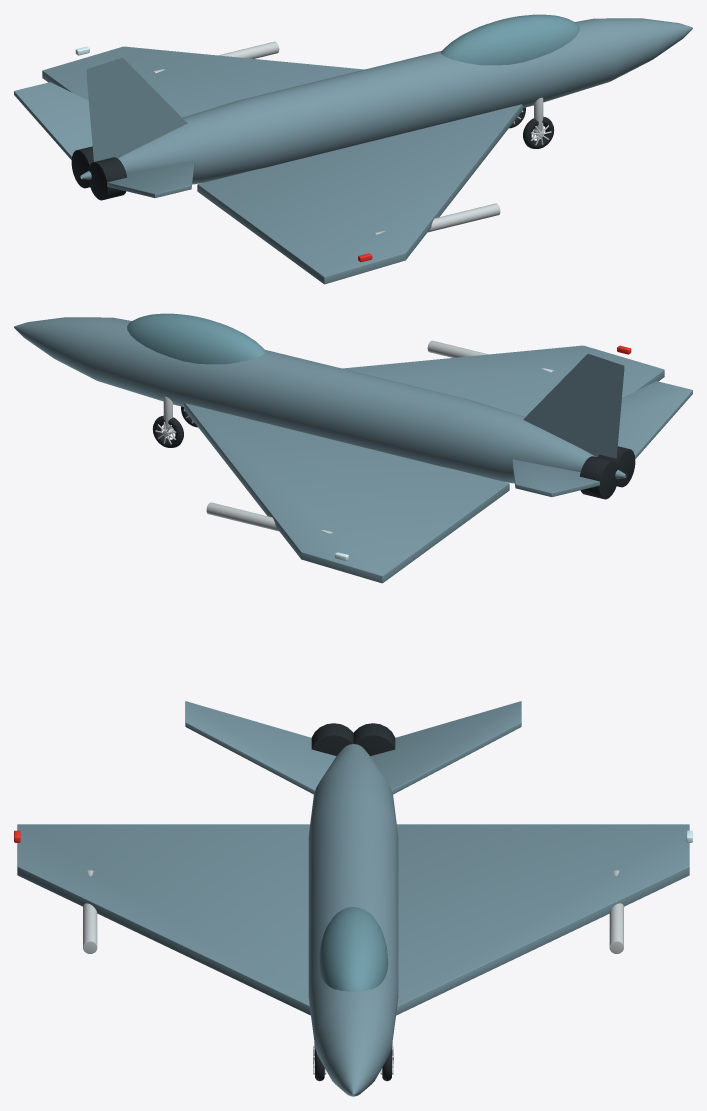
Rendered from Fighter.fbx.
The picture shows the model from 3 angles, top to bottom: view 1: azimuth 30°, elevation 25°; view 2: azimuth 150°, elevation 25°; view 3: azimuth 270°, elevation 25°; orthographic projection. The views are drawn at different scales.
Parts seen in each view (by area): view 1: BodyPaint, Glazing, TrimRubber.002, BrushedAlloy, TrimRubber; view 2: BodyPaint, Glazing, TrimRubber.002, BrushedAlloy, TrimRubber.003; view 3: BodyPaint, Glazing, TrimRubber.002, BrushedAlloy.
Boxes of the visible parts, x1=… form: BodyPaint: x1=14, y1=18, x2=692, y2=284; Glazing: x1=441, y1=14, x2=579, y2=65; TrimRubber.002: x1=71, y1=146, x2=127, y2=200; BrushedAlloy: x1=153, y1=41, x2=543, y2=234; TrimRubber: x1=523, y1=116, x2=554, y2=148; BodyPaint: x1=14, y1=317, x2=692, y2=583; Glazing: x1=127, y1=313, x2=265, y2=364; TrimRubber.002: x1=579, y1=446, x2=635, y2=499; BrushedAlloy: x1=163, y1=340, x2=553, y2=533; TrimRubber.003: x1=152, y1=415, x2=183, y2=447; BodyPaint: x1=17, y1=701, x2=689, y2=1096; Glazing: x1=318, y1=907, x2=388, y2=991; TrimRubber.002: x1=311, y1=723, x2=395, y2=755; BrushedAlloy: x1=83, y1=870, x2=623, y2=1055.
Bounding box in the file's own units: 1500 × 427 × 1212.
